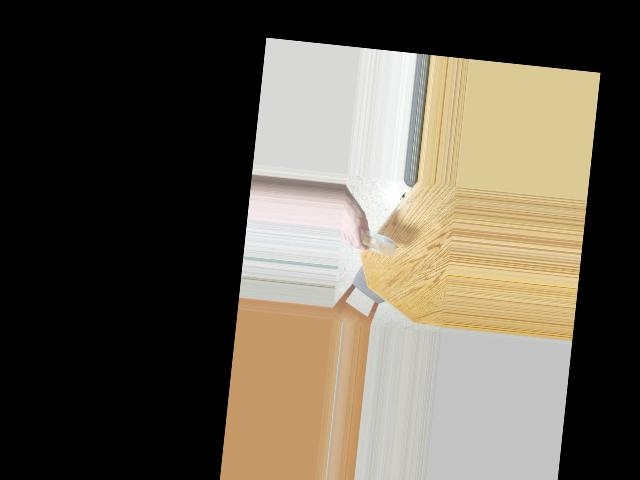cheese: (359, 223, 394, 257)
